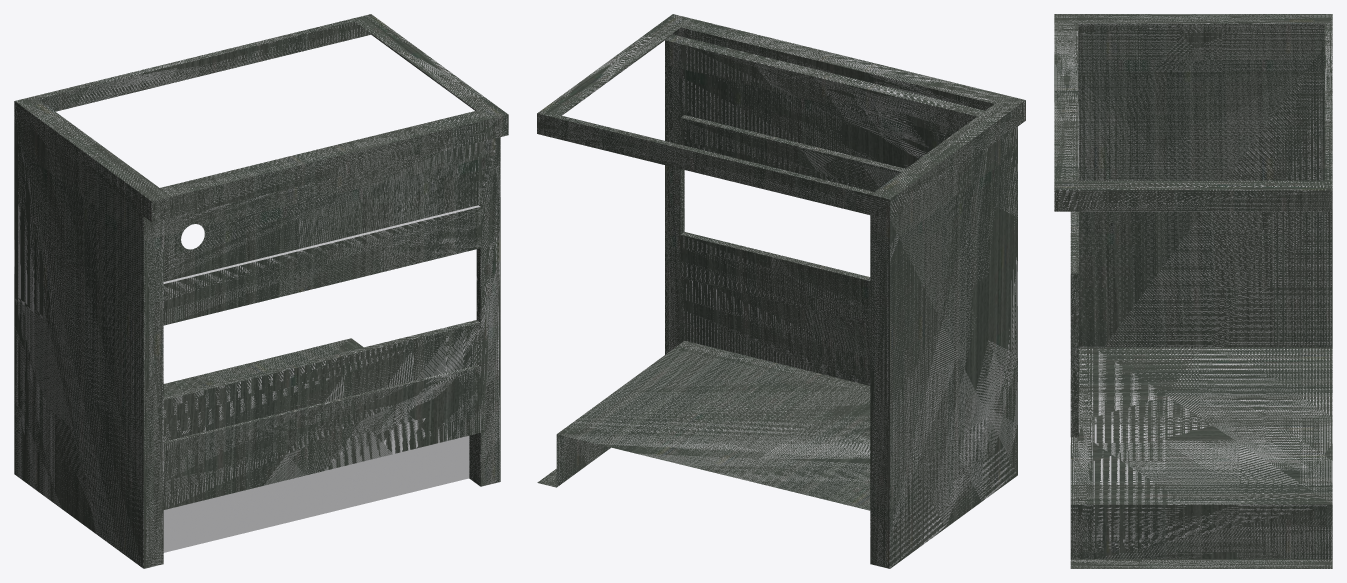
File: original-39-collision.obj
3 views of the same model, side by side, from view 1: azimuth 30°, elevation 25°; view 2: azimuth 150°, elevation 25°; view 3: azimuth 270°, elevation 25° (orthographic). The views are drawn at different scales.
Parts seen in each view (by area): view 1: mesh4/mesh4-geometry/material_2#mesh4-geometry; view 2: mesh4/mesh4-geometry/material_2#mesh4-geometry; view 3: mesh4/mesh4-geometry/material_2#mesh4-geometry.
Part boxes in pixels (box(x1,y1,x2,y2)): mesh4/mesh4-geometry/material_2#mesh4-geometry: box(14, 14, 508, 568); mesh4/mesh4-geometry/material_2#mesh4-geometry: box(537, 14, 1025, 568); mesh4/mesh4-geometry/material_2#mesh4-geometry: box(1054, 14, 1332, 568).
Bounding box in the file's own units: 1.23 × 1.23 × 0.8209.
